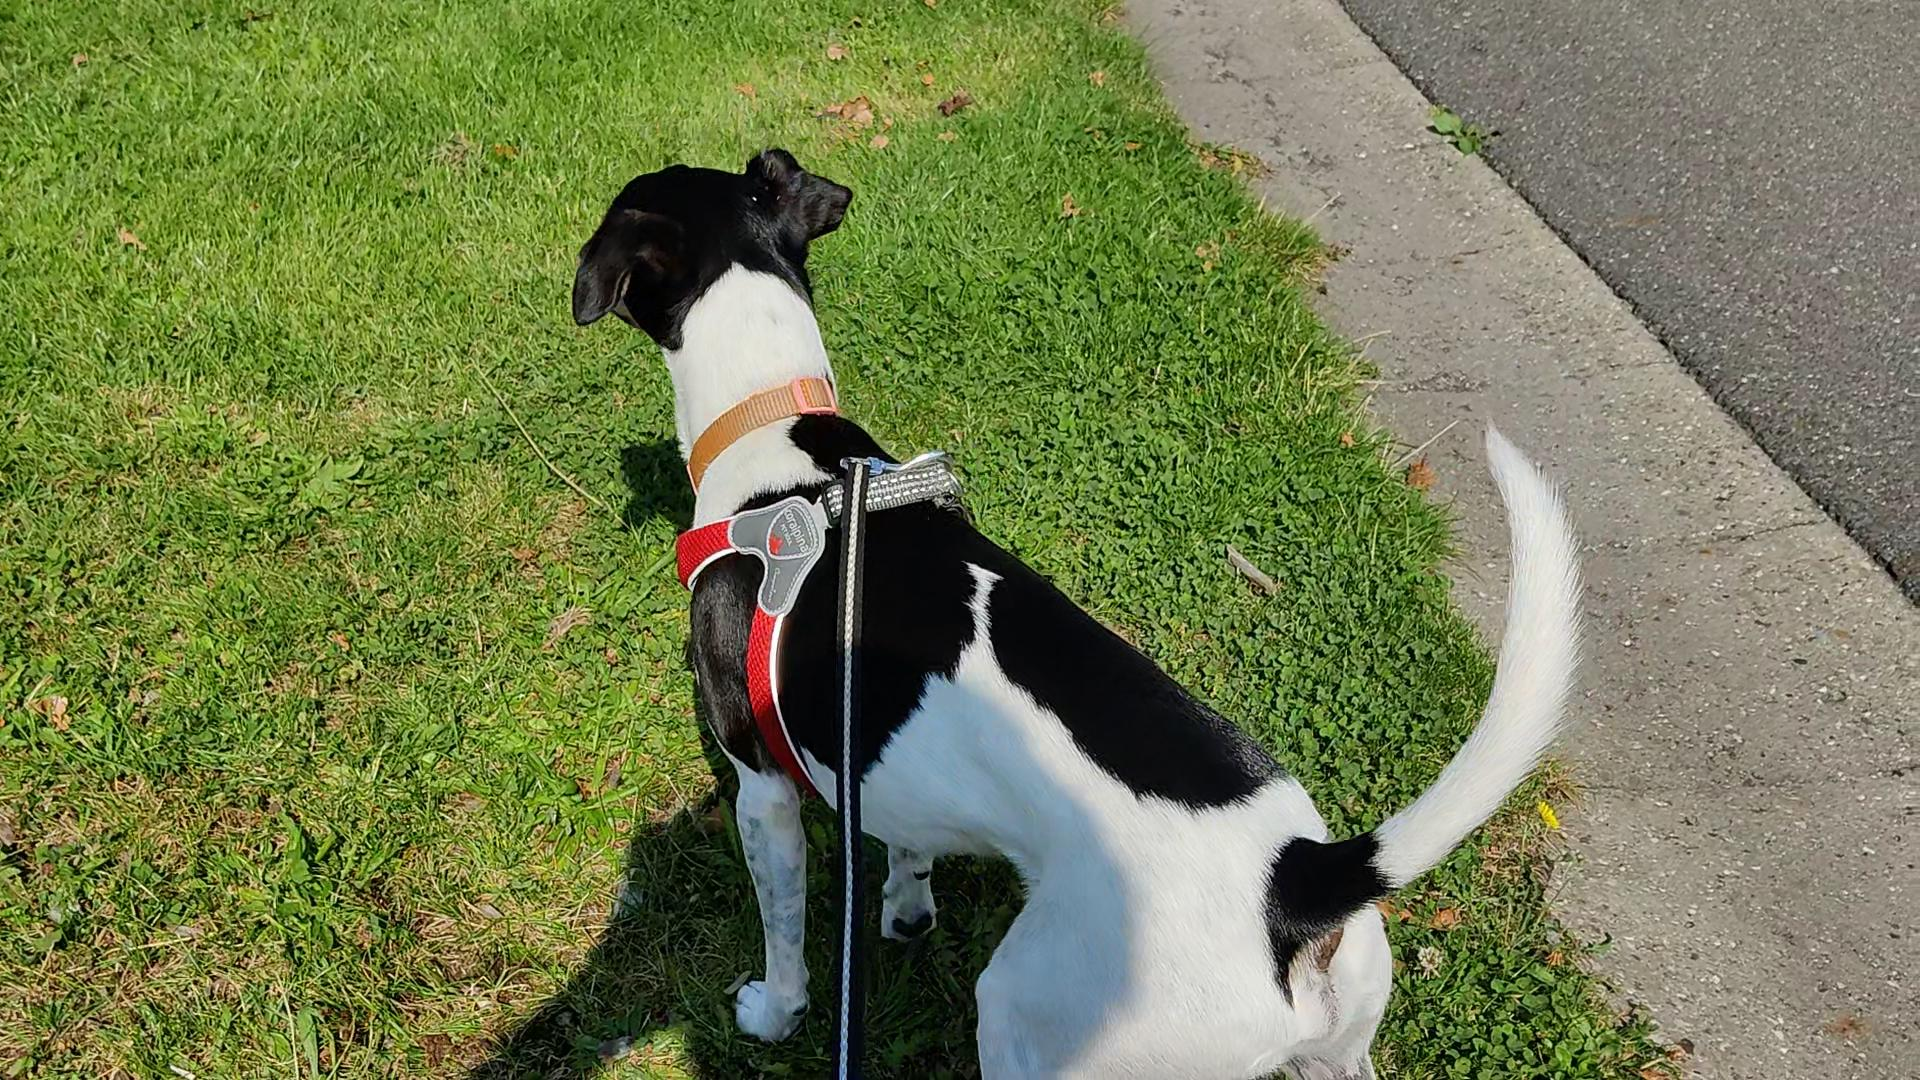Dog: (567, 140, 1592, 1079)
